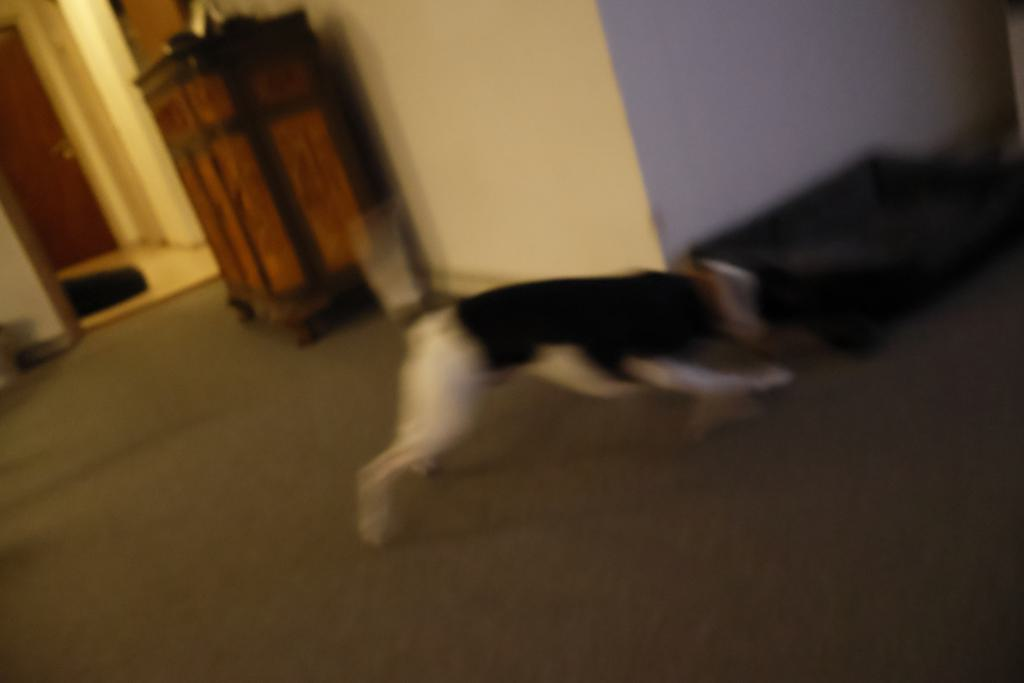Dog: (335, 177, 852, 559)
